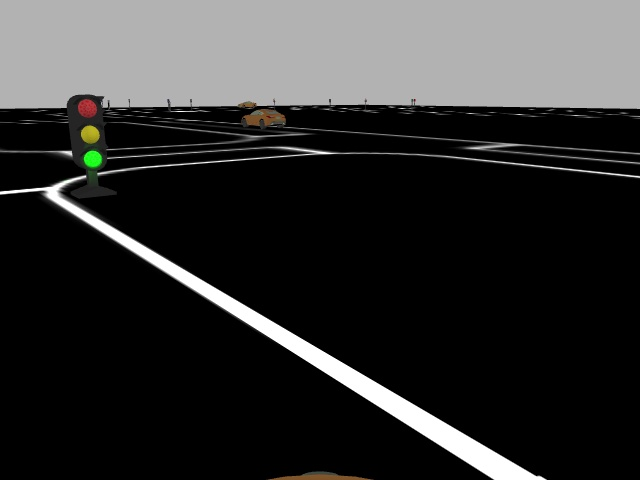green_light: (69, 94, 107, 178)
